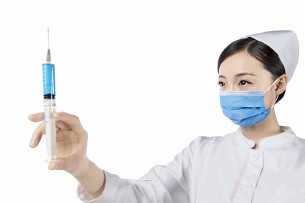Mask: (215, 70, 272, 128)
